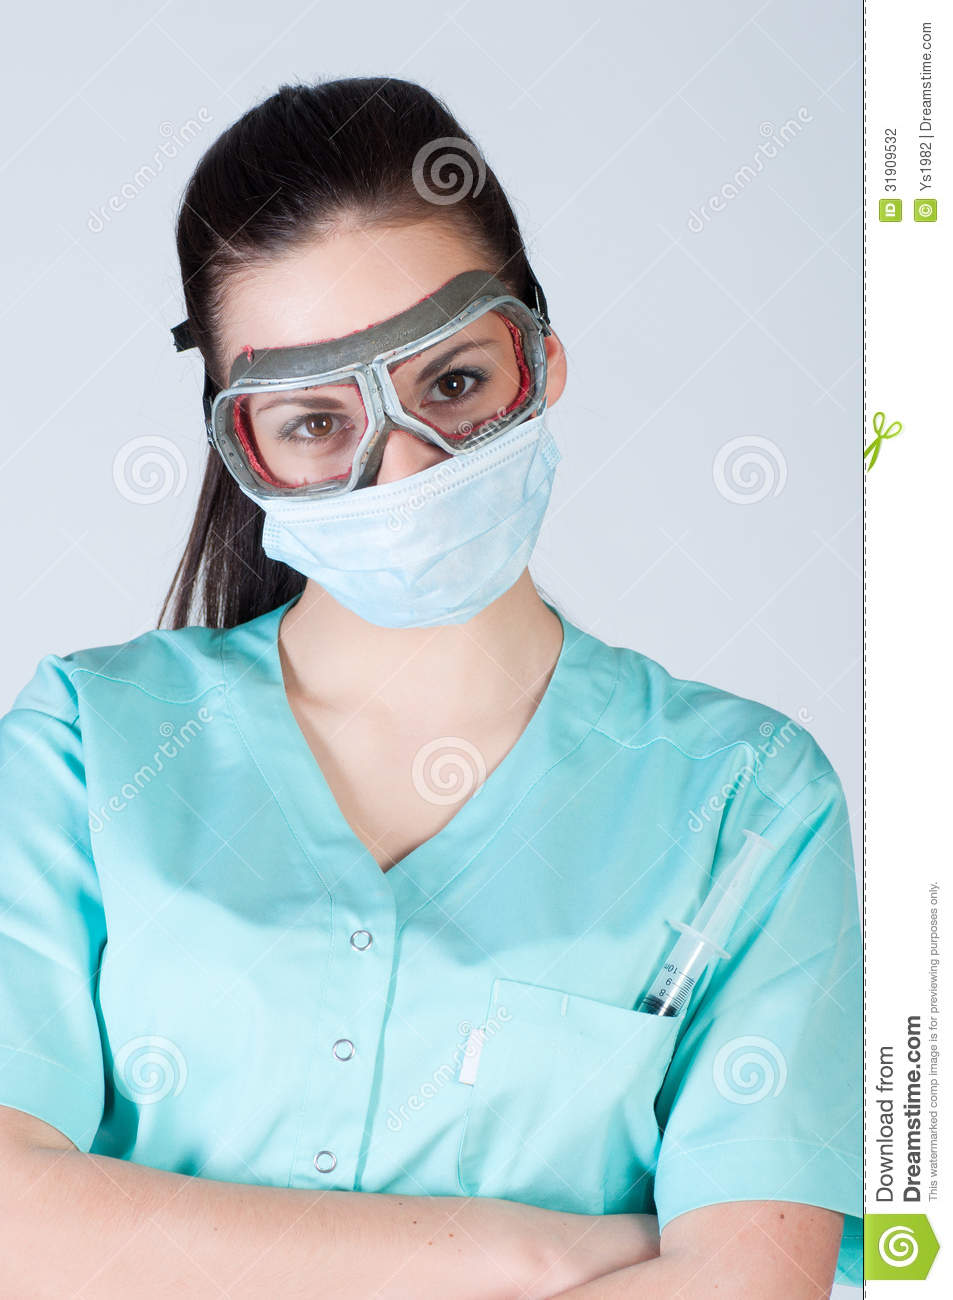mask: (266, 433, 567, 635)
